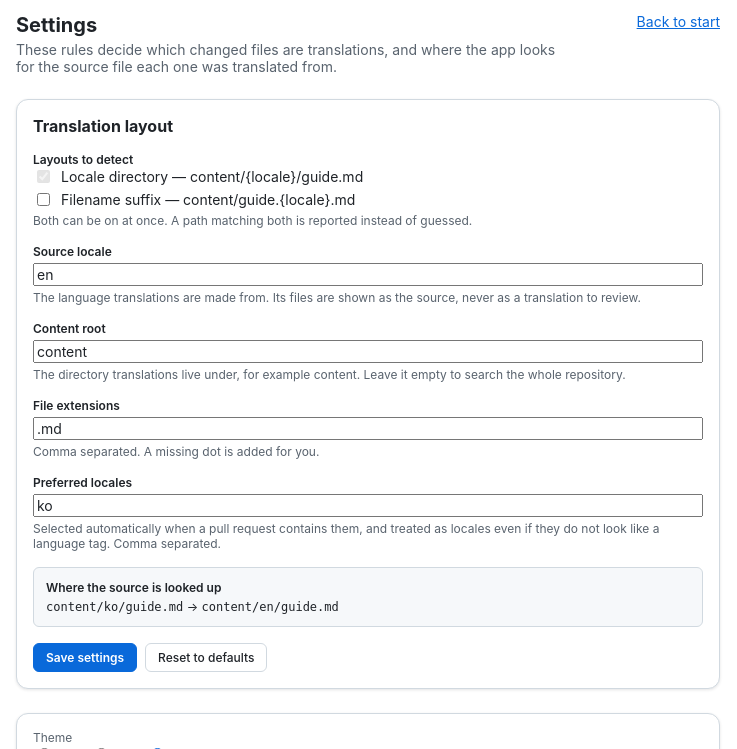
it: SettingsScreen › keeps at least one layout active
expect the checkbox labelled "Locale directory — content/{locale}/guide.md" is checked: met, box [37,170,50,183]
expect the checkbox labelled "Locale directory — content/{locale}/guide.md" is disabled: met, box [37,170,50,183]
Click the checkbox labelled "Filename suffix — content/guide.{locale}.md": coordinates (44, 200) [37,193,50,206]
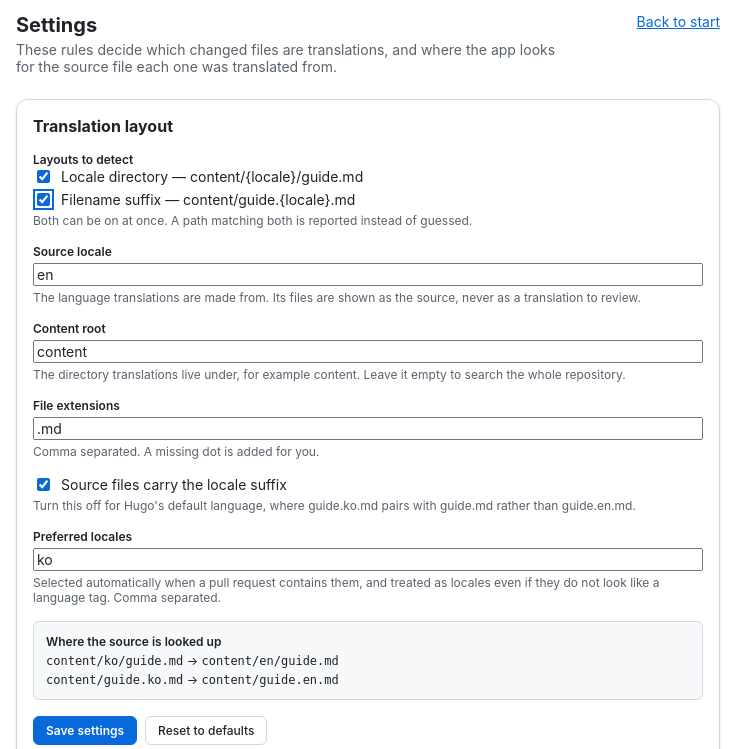
expect the checkbox labelled "Locale directory — content/{locale}/guide.md" is enabled: met, box [37,170,50,183]
